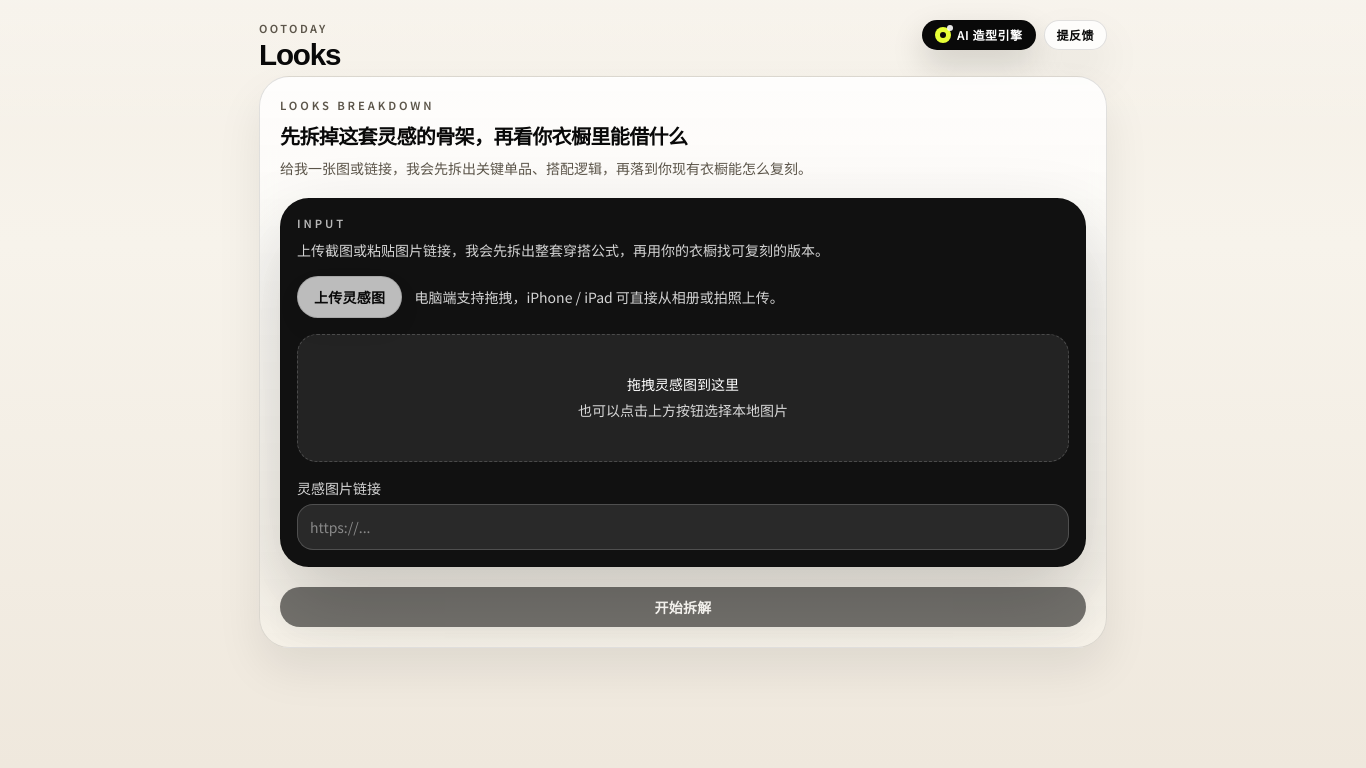
Test: InspirationPage › renders breakdown and closet matches from a pasted image url
This screenshot has width=1366, height=768.
Expected: the heading "Looks" is shown, [259,40,340,68]
Type "https://example.com/look.jpg" into the field labelled "灵感图片链接" at x=683, y=527, box [297,504,1069,550]
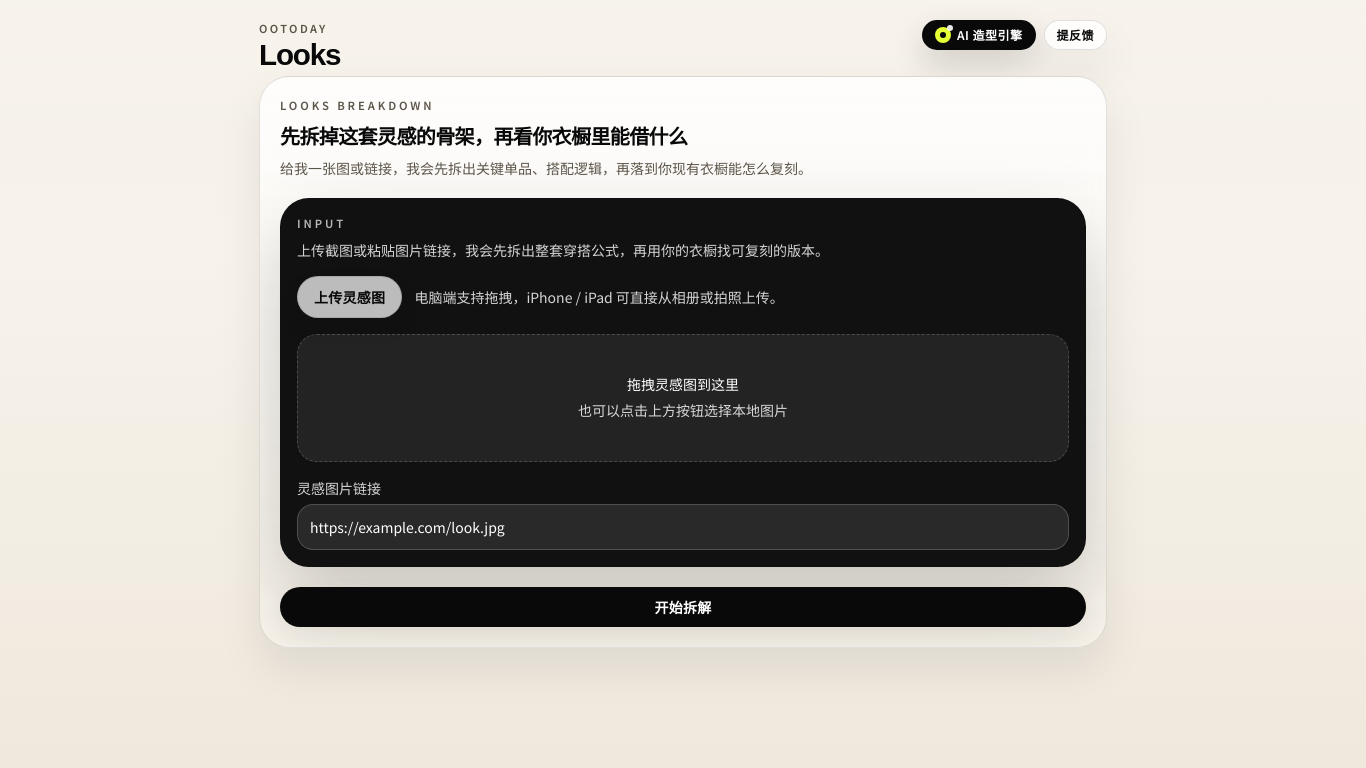
Click the button "开始拆解" at x=683, y=607, box [280,587,1086,627]
(page scrolled)
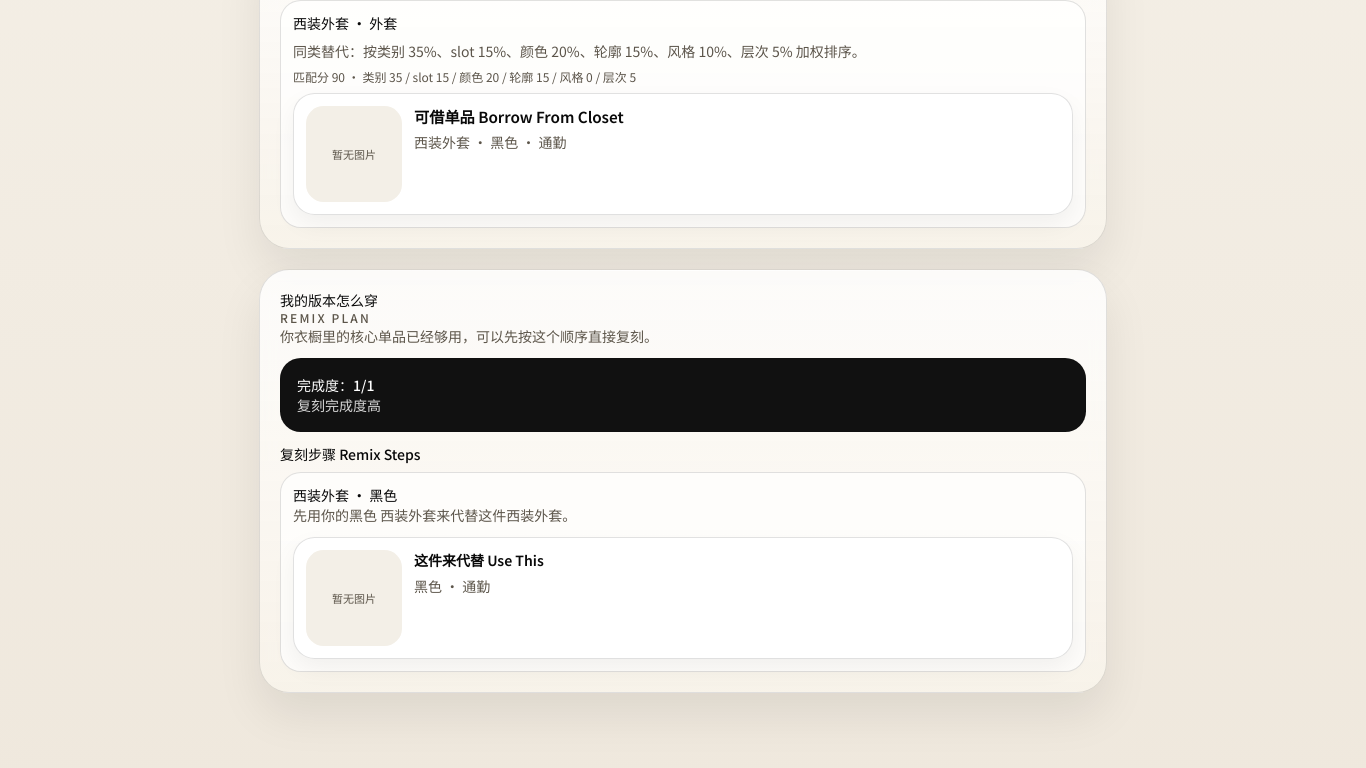
Result: the text "西装外套 · 外套" is shown at [293,13,397,33]
Result: the text "同类替代：按类别 35%、slot 15%、颜色 20%、轮廓 15%、风格 10%、层次 5% 加权排序。" is shown at [293,41,866,61]
Result: the text "匹配分 90 · 类别 35 / slot 15 / 颜色 20 / 轮廓 15 / 风格 0 / 层次 5" is shown at [293,68,636,85]
